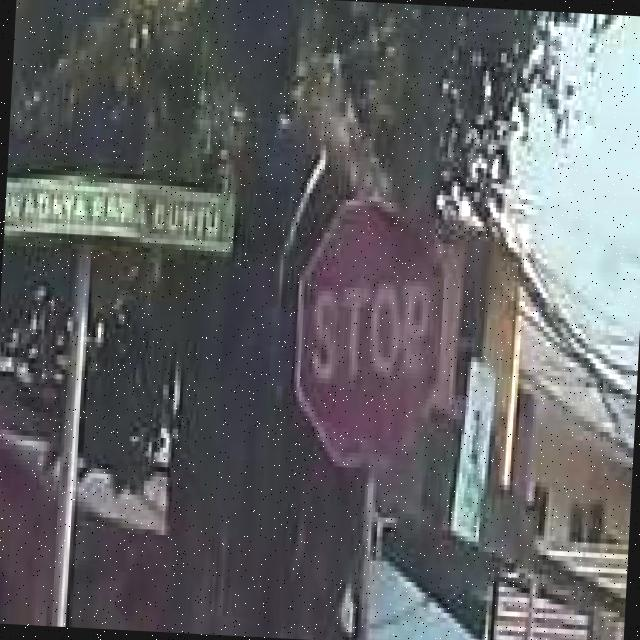Stop: (298, 198, 448, 468)
